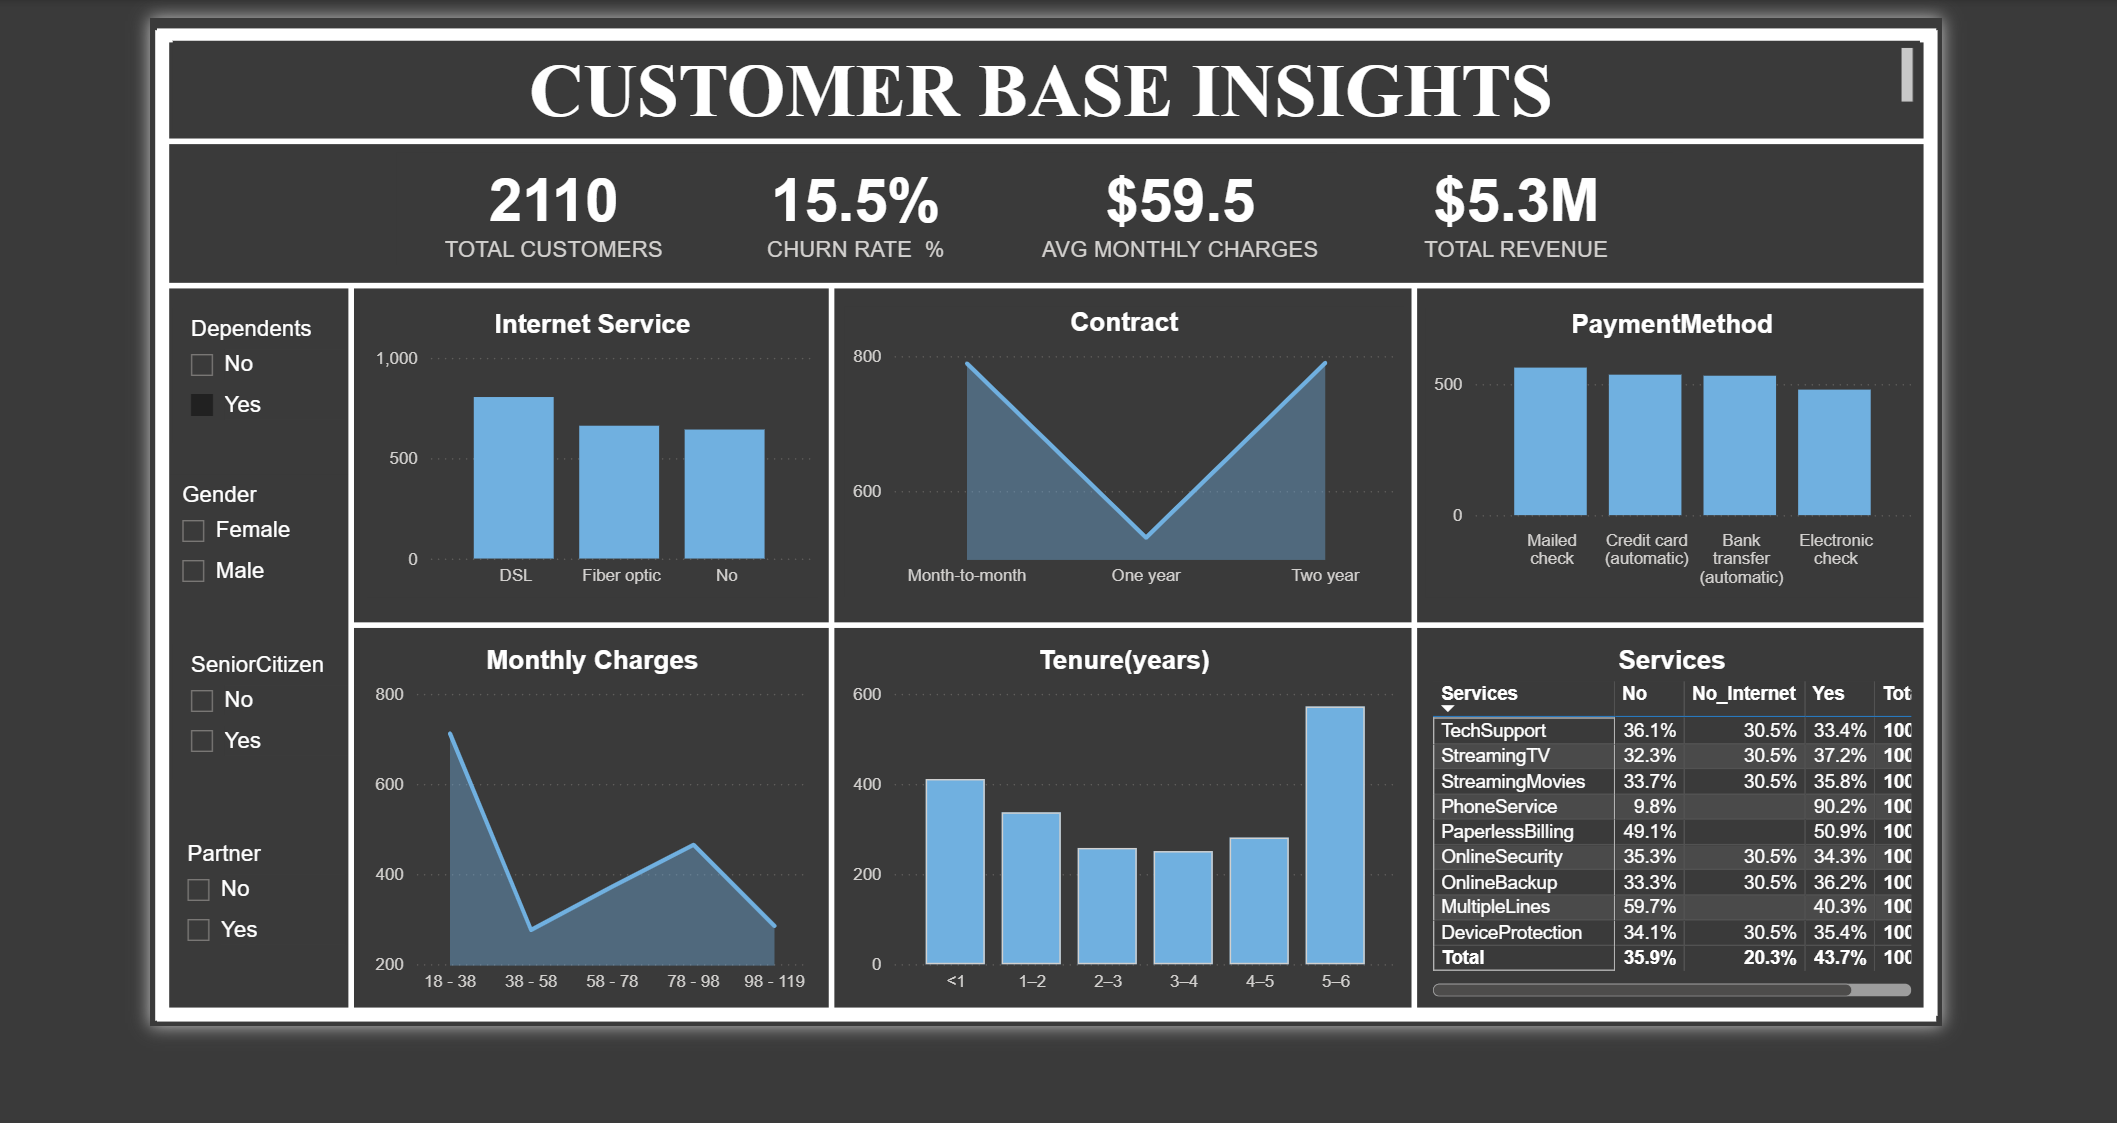

This screenshot's page, from the dashboard's own definition file:
{"tool":"powerbi","page":{"name":"ALL CUSTOMER","canvas":[1280,720],"ordinal":0},"visuals":[{"type":"card","fields":{"Values":["Count(RAW DATA EXCEL.customerID)"]},"box":[176,96,224,80],"z":0},{"type":"card","fields":{"Values":["CALCULATIONS.Churn Rate %"]},"box":[400,96,208,80],"z":1000},{"type":"card","fields":{"Values":["Sum(RAW DATA EXCEL.TotalCharges)"]},"box":[864,96,224,80],"z":2000},{"type":"slicer","fields":{"Values":["RAW DATA EXCEL.gender"]},"box":[10,325.9,134.3,88.3],"z":3000},{"type":"clusteredColumnChart","title":"Internet Service","fields":{"Category":["RAW DATA EXCEL.InternetService"],"Y":["CountNonNull(RAW DATA EXCEL.customerID)"]},"box":[155.5,207.7,322.1,206.5],"z":4000},{"type":"card","fields":{"Values":["CALCULATIONS.Avg Monthly Charges"]},"box":[624,96,224,80],"z":5000},{"type":"areaChart","title":"Contract","fields":{"Category":["RAW DATA EXCEL.Contract"],"Y":["CountNonNull(RAW DATA EXCEL.customerID)"]},"box":[496.3,206.5,399.2,207.7],"z":6000},{"type":"columnChart","title":" PaymentMethod","fields":{"Category":["RAW DATA EXCEL.PaymentMethod"],"Y":["CountNonNull(RAW DATA EXCEL.customerID)"]},"box":[911.7,207.7,352,206.5],"z":7000},{"type":"areaChart","title":"Monthly Charges","fields":{"Category":["RAW DATA EXCEL.Monthly Charges Range"],"Y":["CountNonNull(RAW DATA EXCEL.Churn)"]},"box":[155.5,447.8,322.1,256.2],"z":8000},{"type":"columnChart","title":"Tenure(years)","fields":{"Category":["RAW DATA EXCEL.tenure(years)"],"Y":["CountNonNull(RAW DATA EXCEL.Churn)"]},"box":[496.3,447.8,399.2,256.2],"z":9000},{"type":"pivotTable","title":"Services","fields":{"Rows":["RAW DATA EXCEL (2).Services"],"Columns":["RAW DATA EXCEL (2).Status"],"Values":["Min(RAW DATA EXCEL (2).Status)"]},"box":[911.7,447.8,352,256.2],"z":10000},{"type":"slicer","fields":{"Values":["RAW DATA EXCEL.Partner"]},"box":[13.7,582.1,130.6,88.3],"z":11000},{"type":"slicer","fields":{"Values":["RAW DATA EXCEL.Dependents"]},"box":[16.2,207.7,128.1,95.8],"z":12000},{"type":"slicer","fields":{"Values":["RAW DATA EXCEL.SeniorCitizen"]},"box":[16.2,447.8,136.8,95.8],"z":13000},{"type":"shape","box":[135.6,191.5,17.4,521.1],"z":14000},{"type":"shape","box":[144.3,420.4,1128.1,27.4],"z":15000},{"type":"shape","box":[5,0,1271.1,24.9],"z":16000},{"type":"shape","box":[5,704,1271.1,16.2],"z":17000},{"type":"shape","box":[1.2,8.7,14.9,707.7],"z":18000},{"type":"shape","box":[1263.8,8.7,16.2,704],"z":19000},{"type":"shape","box":[895.5,191.5,16.2,519.9],"z":20000},{"type":"shape","box":[477.6,191.5,18.7,521.1],"z":21000},{"type":"textbox","box":[16,16,1248,64],"z":22000},{"type":"shape","box":[8.7,175.4,1263.7,32.3],"z":23000},{"type":"shape","box":[5,79.6,1271.1,16.2],"z":26000}]}

Visuals, with their boxes on the page's 1280x720 design canvas (x1, y1, x2, y2). These are canvas units, not pixel positions in the 2117x1123 screenshot, which may show the page scaled, cropped or inside an application window:
card - Count(RAW DATA EXCEL.customerID): left=176, top=96, right=400, bottom=176
card - CALCULATIONS.Churn Rate %: left=400, top=96, right=608, bottom=176
card - Sum(RAW DATA EXCEL.TotalCharges): left=864, top=96, right=1088, bottom=176
slicer - RAW DATA EXCEL.gender: left=10, top=326, right=144, bottom=414
"Internet Service" clusteredColumnChart: left=156, top=208, right=478, bottom=414
card - CALCULATIONS.Avg Monthly Charges: left=624, top=96, right=848, bottom=176
"Contract" areaChart: left=496, top=206, right=896, bottom=414
" PaymentMethod" columnChart: left=912, top=208, right=1264, bottom=414
"Monthly Charges" areaChart: left=156, top=448, right=478, bottom=704
"Tenure(years)" columnChart: left=496, top=448, right=896, bottom=704
"Services" pivotTable: left=912, top=448, right=1264, bottom=704
slicer - RAW DATA EXCEL.Partner: left=14, top=582, right=144, bottom=670
slicer - RAW DATA EXCEL.Dependents: left=16, top=208, right=144, bottom=304
slicer - RAW DATA EXCEL.SeniorCitizen: left=16, top=448, right=153, bottom=544
shape: left=136, top=192, right=153, bottom=713
shape: left=144, top=420, right=1272, bottom=448
shape: left=5, top=0, right=1276, bottom=25
shape: left=5, top=704, right=1276, bottom=720
shape: left=1, top=9, right=16, bottom=716
shape: left=1264, top=9, right=1280, bottom=713
shape: left=896, top=192, right=912, bottom=711
shape: left=478, top=192, right=496, bottom=713
textbox: left=16, top=16, right=1264, bottom=80
shape: left=9, top=175, right=1272, bottom=208
shape: left=5, top=80, right=1276, bottom=96
